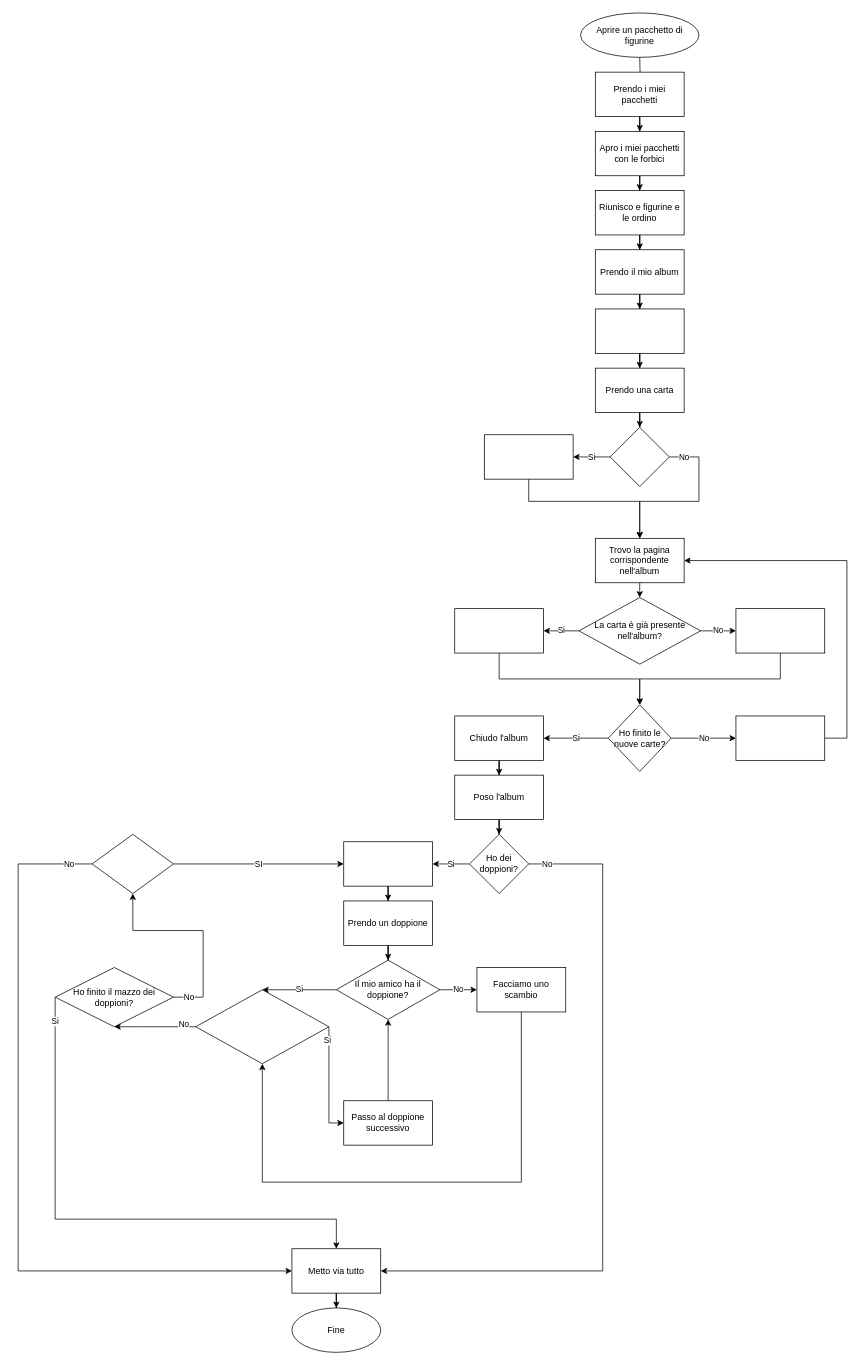
This 866x1365 diagram has some shape labels left out. Each missing label, with the centre of its shape:
Apro il mio album: (x=639, y=330)
Chiamo un amico: (x=388, y=863)
E' rara?: (x=639, y=457)
Godo: (x=528, y=456)
Ho altre carte che posso scambiare con lui?: (x=262, y=1026)
Ho altri amici?: (x=132, y=864)
La incollo nell'album: (x=780, y=630)
La metto in un mazzo a parte: (x=499, y=630)
Prendo la carta successiva: (x=780, y=737)
